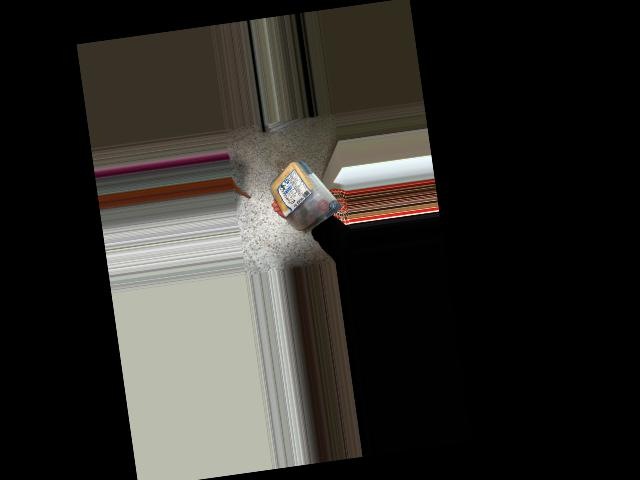cheese: (265, 152, 339, 236)
